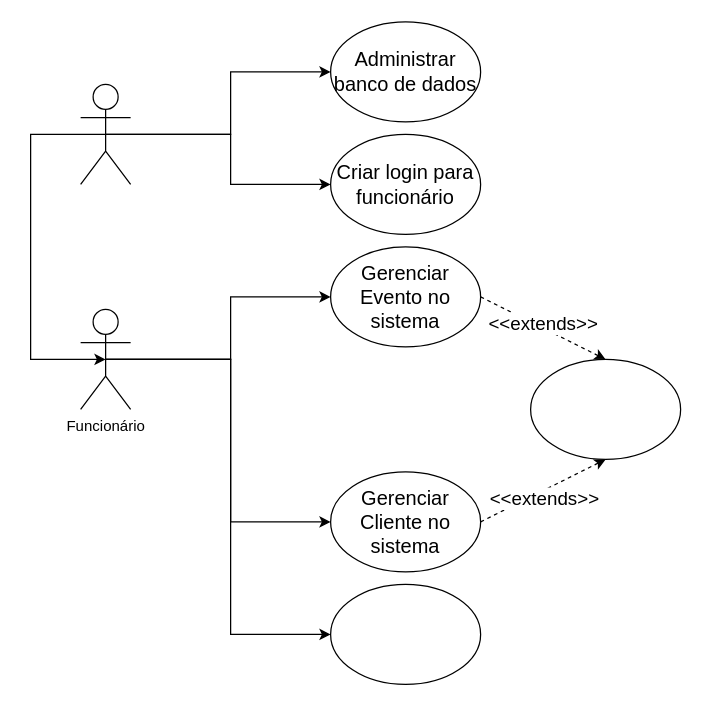
This 703x706 diagram has some shape labels left out. The shapes that lost their labels are listed below. From the top down, each one's centre as x and y in pixels, then its label:
At point (105, 133): "Administrador".
At point (605, 408): "Solicitar relatório de atividade mensal".
At point (405, 633): "Efetuar login".
